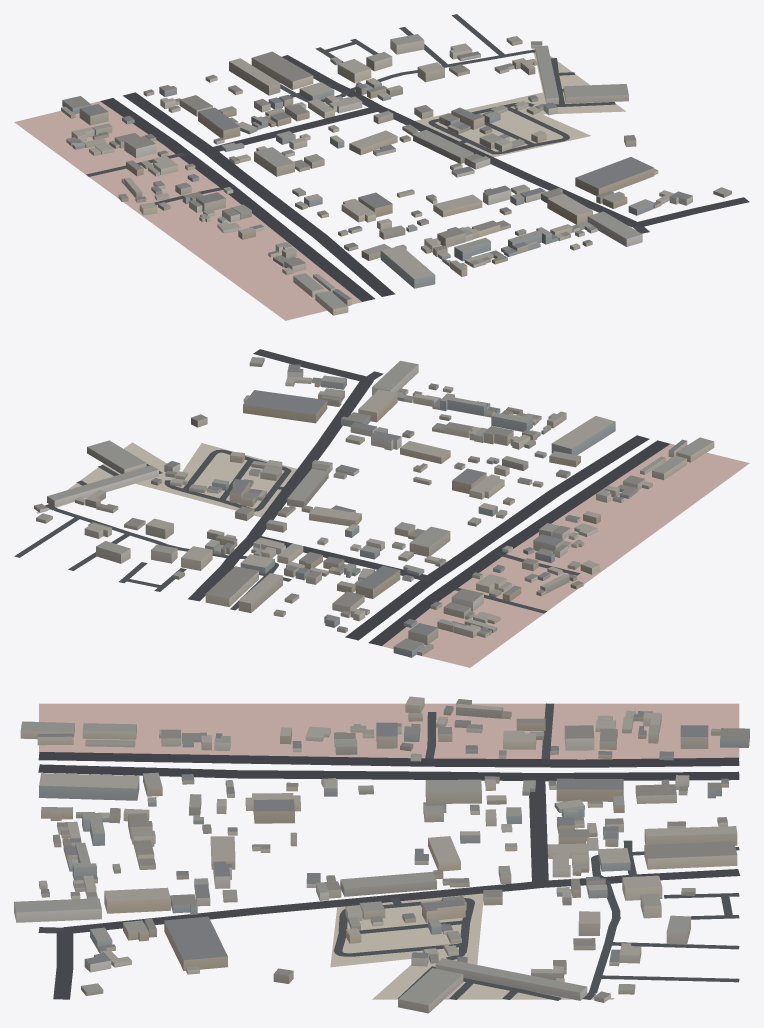
3 views of the same model, one above another, from view 1: azimuth 30°, elevation 25°; view 2: azimuth 150°, elevation 25°; view 3: azimuth 270°, elevation 25° (orthographic). The views are drawn at different scales.
Visible parts, largest first — view 1: buildings_roofs, buildings_walls, landuse, roads; view 2: buildings_roofs, buildings_walls, landuse, roads; view 3: buildings_roofs, landuse, buildings_walls, roads.
Boxes of the visible parts, x1,y1,x2,y2 form: buildings_roofs: (61,34,731,309); buildings_walls: (61,38,731,315); landuse: (14,43,625,320); roads: (86,14,749,301); buildings_roofs: (34,357,713,652); buildings_walls: (34,358,714,657); landuse: (36,442,749,667); roads: (14,349,670,645); buildings_roofs: (14,696,749,1005); landuse: (39,703,739,999); buildings_walls: (14,698,749,1013); roads: (38,703,740,1000).
Bounding box in the file's own units: 525 × 9.62 × 526.
